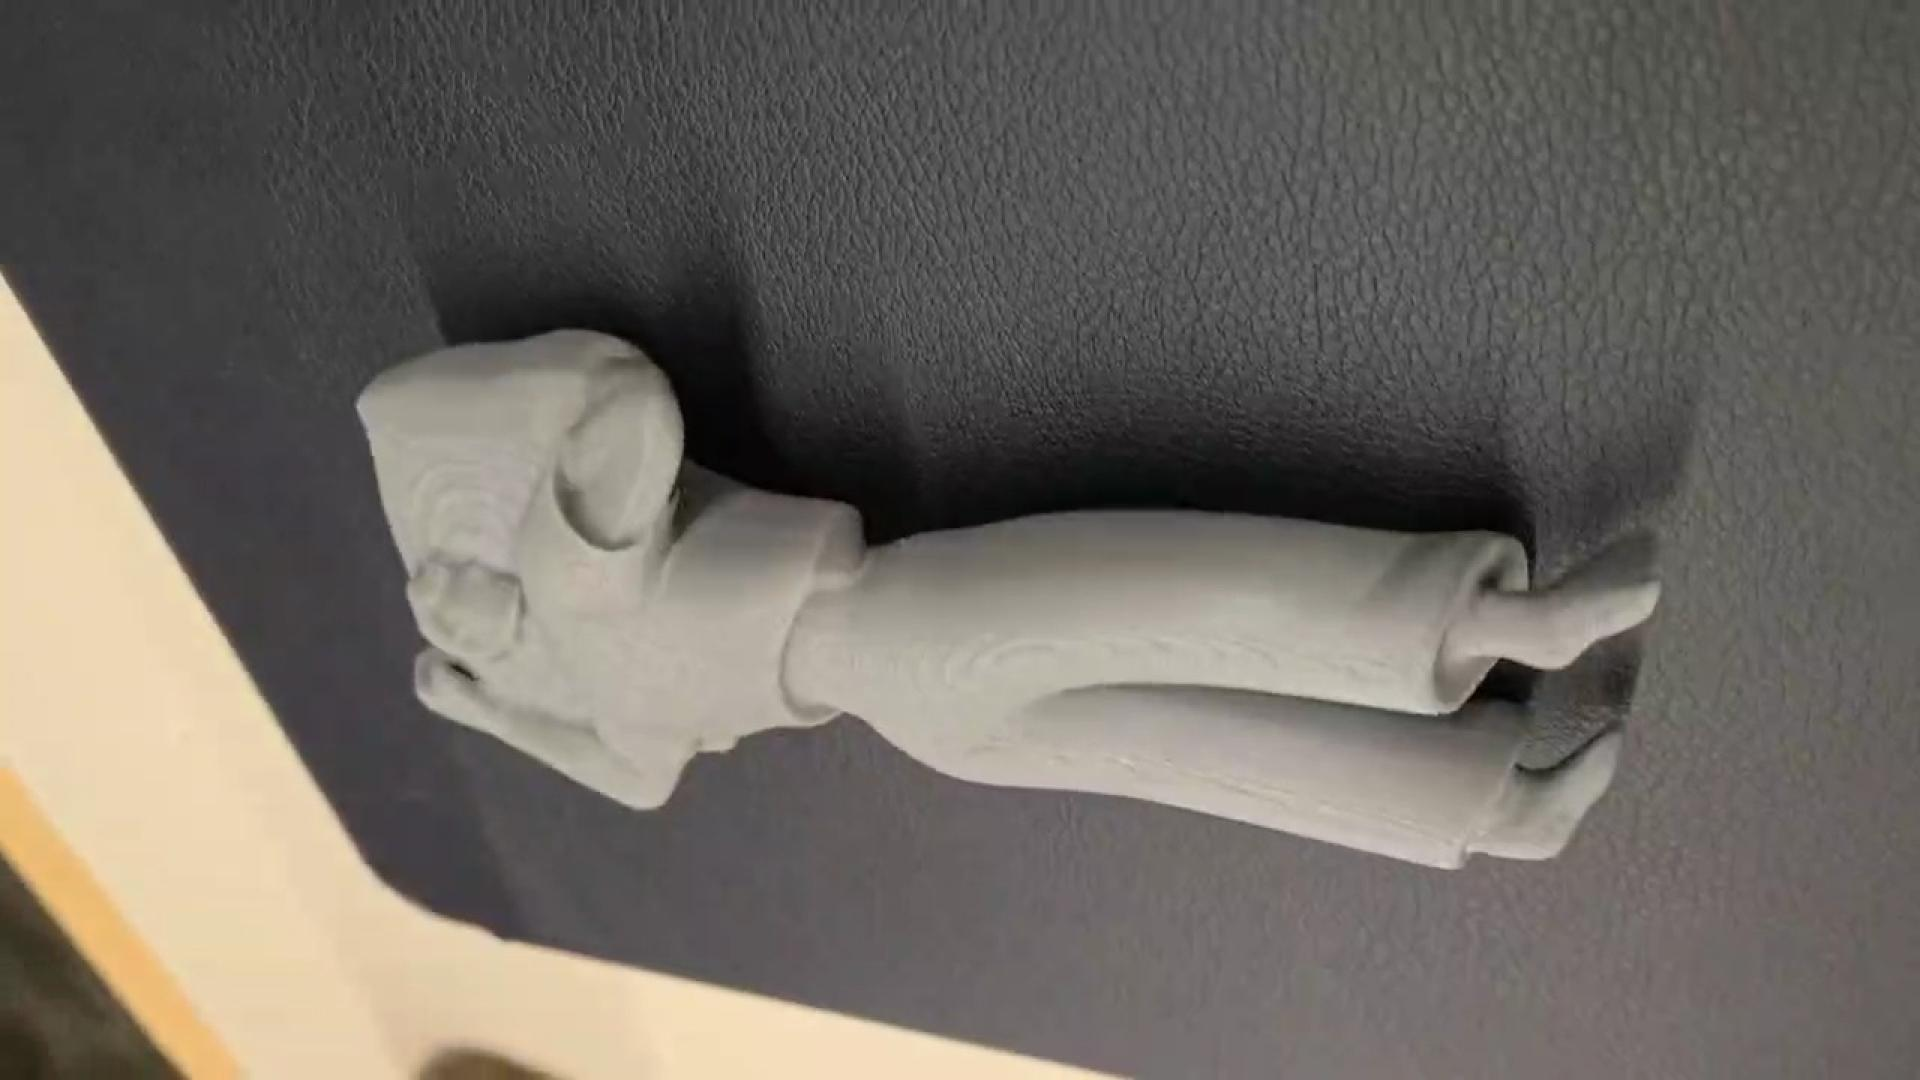Bad-style: (353, 327, 1667, 877)
